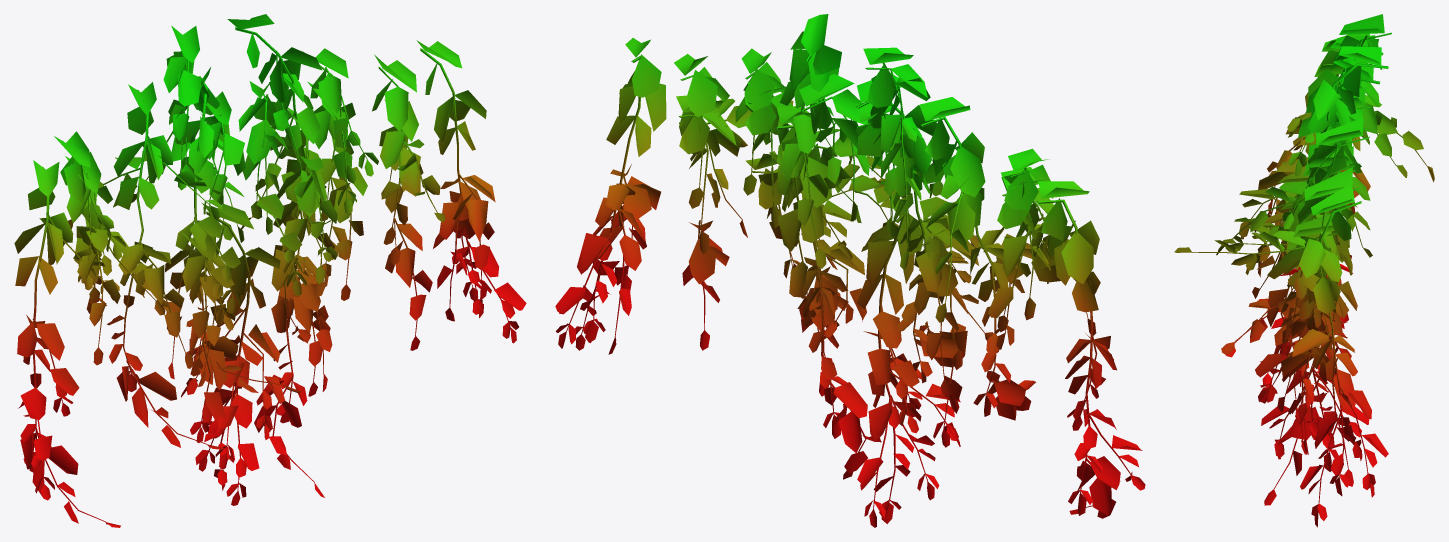
Rendered from Var6_LOD3.fbx.
The picture shows the model from 3 angles, left to right: view 1: azimuth 30°, elevation 25°; view 2: azimuth 150°, elevation 25°; view 3: azimuth 270°, elevation 25°; orthographic projection. The views are drawn at different scales.
Visible parts, largest first — view 1: _nezr_Var6_LOD3; view 2: _nezr_Var6_LOD3; view 3: _nezr_Var6_LOD3.
Boxes of the visible parts, x1=… form: _nezr_Var6_LOD3: x1=14, y1=14, x2=526, y2=527; _nezr_Var6_LOD3: x1=555, y1=14, x2=1145, y2=527; _nezr_Var6_LOD3: x1=1174, y1=14, x2=1434, y2=527.
Size of the model in its own units: 111 by 95.9 by 50.46.
